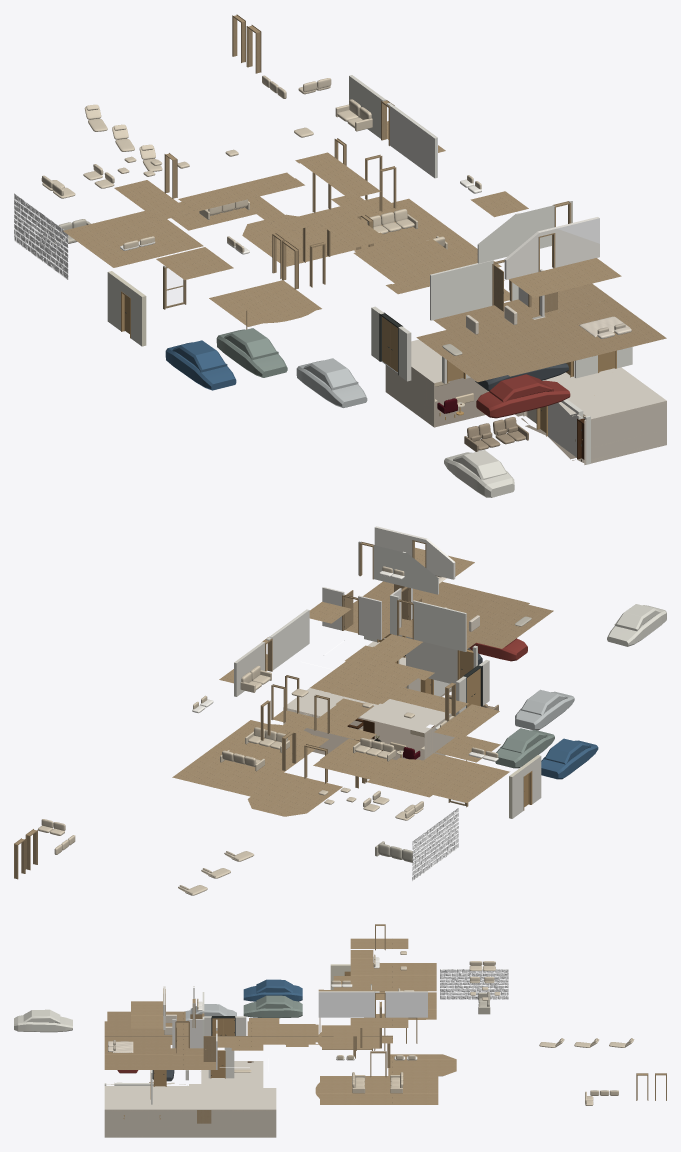
File: compact-furnishings.glb
3 renders of one model, top to bottom at view 1: azimuth 30°, elevation 25°; view 2: azimuth 150°, elevation 25°; view 3: azimuth 270°, elevation 25°, orthographic. The views are drawn at different scales.
Parts seen in each view (by area): view 1: Bedroom 02 | floor 0, Formal 01 | wide oak floor, Bar 01 | ivory ceiling lining, Terrace suites | west bedroom oak floor, Bar detail | panelling south back bar cream wall lining, Proposal | Wing dormer south cheek, Office 01 | continuous oak floor, Proposal | Principal suite north partition pier 0, Landings 01 | continuous oak landing floor.002, Landings 01 | continuous oak landing floor, Proposal | Loft ensuite north wall pier 0, Loftsuite 01 | hip store oak floor (+25 smaller); view 2: Formal 01 | wide oak floor, Bedroom 02 | floor 0, Terrace suites | west bedroom oak floor, Bar 01 | ivory ceiling lining, Proposal | Principal suite north partition pier 0, Terrace suites | lounge oak floor, Landings 01 | continuous oak landing floor, Proposal | Loft ensuite north wall pier 0, Proposal | Wing dormer south cheek, Bar 01 | limestone floor finish, Proposal | Garage north store separation end pier, Proposal | Loft passage east wall end pier (+22 smaller); view 3: Bar 01 | ivory ceiling lining, Bar detail | panelling east bar and games cream wall lining, Formal 01 | wide oak floor, Bedroom 02 | floor 0, Terrace suites | west bedroom oak floor, Proposal | Loft passage east wall cladding end pier, Proposal | Original loft dormer east cheek pier 0, Landings 01 | continuous oak landing floor.002, Landings 01 | continuous oak landing floor, Loftsuite 01 | hip store oak floor, Hobby 01 | archive oak floor, Ensuite 01 | dressing oak floor (+15 smaller).
Boxes of the visible parts, left/top/right/bottom form: Bedroom 02 | floor 0: left=433, top=299, right=666, bottom=376; Formal 01 | wide oak floor: left=242, top=198, right=501, bottom=267; Bar 01 | ivory ceiling lining: left=411, top=316, right=666, bottom=420; Terrace suites | west bedroom oak floor: left=63, top=211, right=203, bottom=267; Bar detail | panelling south back bar cream wall lining: left=584, top=401, right=666, bottom=464; Proposal | Wing dormer south cheek: left=504, top=217, right=599, bottom=279; Office 01 | continuous oak floor: left=209, top=280, right=321, bottom=326; Proposal | Principal suite north partition pier 0: left=430, top=260, right=493, bottom=320; Landings 01 | continuous oak landing floor.002: left=353, top=235, right=460, bottom=282; Landings 01 | continuous oak landing floor: left=271, top=196, right=396, bottom=248; Proposal | Loft ensuite north wall pier 0: left=477, top=205, right=554, bottom=263; Loftsuite 01 | hip store oak floor: left=508, top=258, right=621, bottom=297; Formal 01 | wide oak floor: left=172, top=720, right=342, bottom=816; Bedroom 02 | floor 0: left=353, top=581, right=529, bottom=649; Terrace suites | west bedroom oak floor: left=391, top=753, right=509, bottom=802; Bar 01 | ivory ceiling lining: left=287, top=641, right=450, bottom=733; Proposal | Principal suite north partition pier 0: left=413, top=600, right=466, bottom=651; Terrace suites | lounge oak floor: left=313, top=738, right=413, bottom=783; Landings 01 | continuous oak landing floor: left=273, top=701, right=376, bottom=740; Proposal | Loft ensuite north wall pier 0: left=373, top=545, right=438, bottom=594; Proposal | Wing dormer south cheek: left=374, top=526, right=455, bottom=579; Bar 01 | limestone floor finish: left=304, top=686, right=451, bottom=760; Proposal | Garage north store separation end pier: left=406, top=636, right=457, bottom=683; Proposal | Loft passage east wall end pier: left=267, top=609, right=309, bottom=670; Bar 01 | ivory ceiling lining: left=104, top=1061, right=276, bottom=1109; Bar detail | panelling east bar and games cream wall lining: left=104, top=1109, right=276, bottom=1137; Formal 01 | wide oak floor: left=315, top=1054, right=456, bottom=1104; Bedroom 02 | floor 0: left=104, top=1021, right=188, bottom=1069; Terrace suites | west bedroom oak floor: left=372, top=963, right=436, bottom=991; Proposal | Loft passage east wall cladding end pier: left=318, top=992, right=379, bottom=1017; Proposal | Original loft dormer east cheek pier 0: left=385, top=991, right=427, bottom=1017; Landings 01 | continuous oak landing floor.002: left=263, top=1024, right=318, bottom=1044; Landings 01 | continuous oak landing floor: left=321, top=1014, right=392, bottom=1048; Loftsuite 01 | hip store oak floor: left=131, top=1001, right=163, bottom=1028; Hobby 01 | archive oak floor: left=350, top=950, right=373, bottom=984; Ensuite 01 | dressing oak floor: left=173, top=1048, right=215, bottom=1069.
Size of the model in its own units: 21.47 by 10.44 by 48.7.
Materials: 104 (31 with a texture image).
